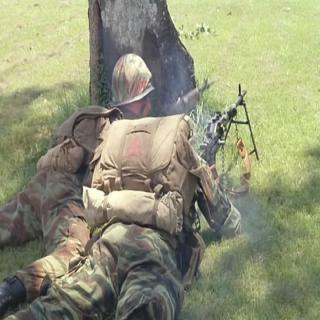gun: (196, 81, 256, 177)
